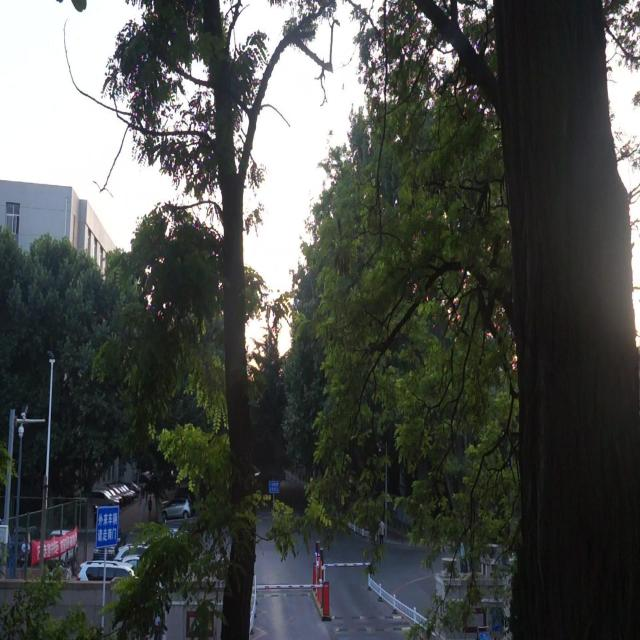UAV: (328, 130, 333, 135)
